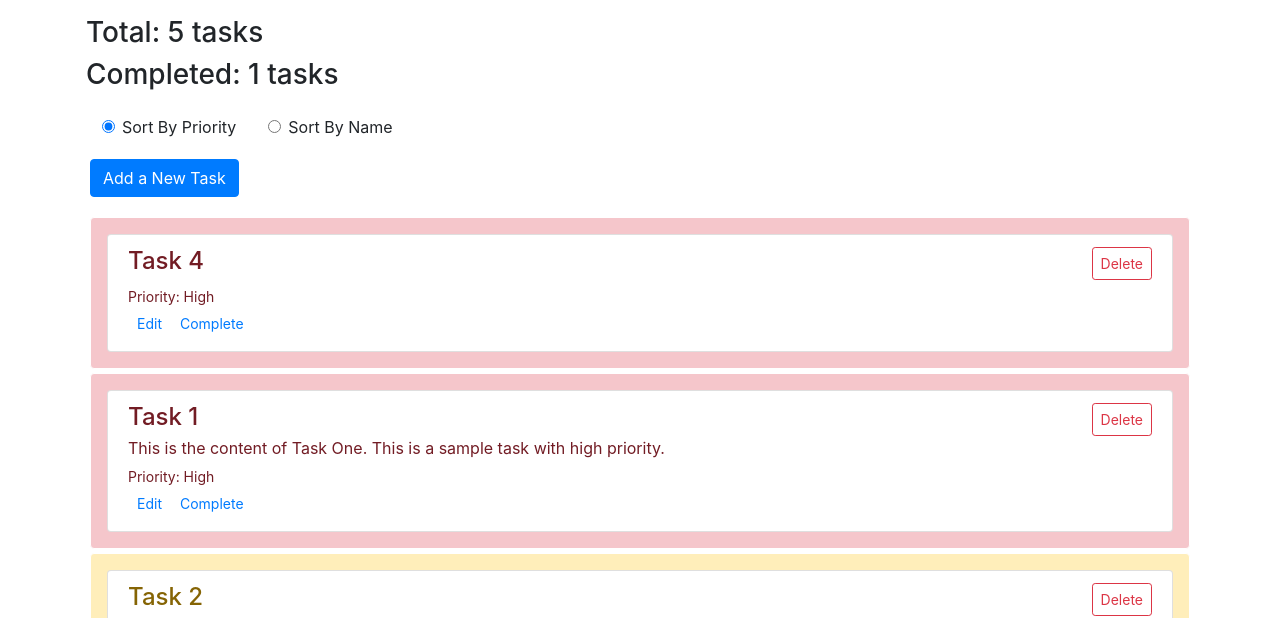
add new task button click
The image size is (1280, 618).
What coordinates should you click on to do the following:
click the button "Add a New Task"
I would click on:
 (164, 178)
Its box is [90,159,239,197].
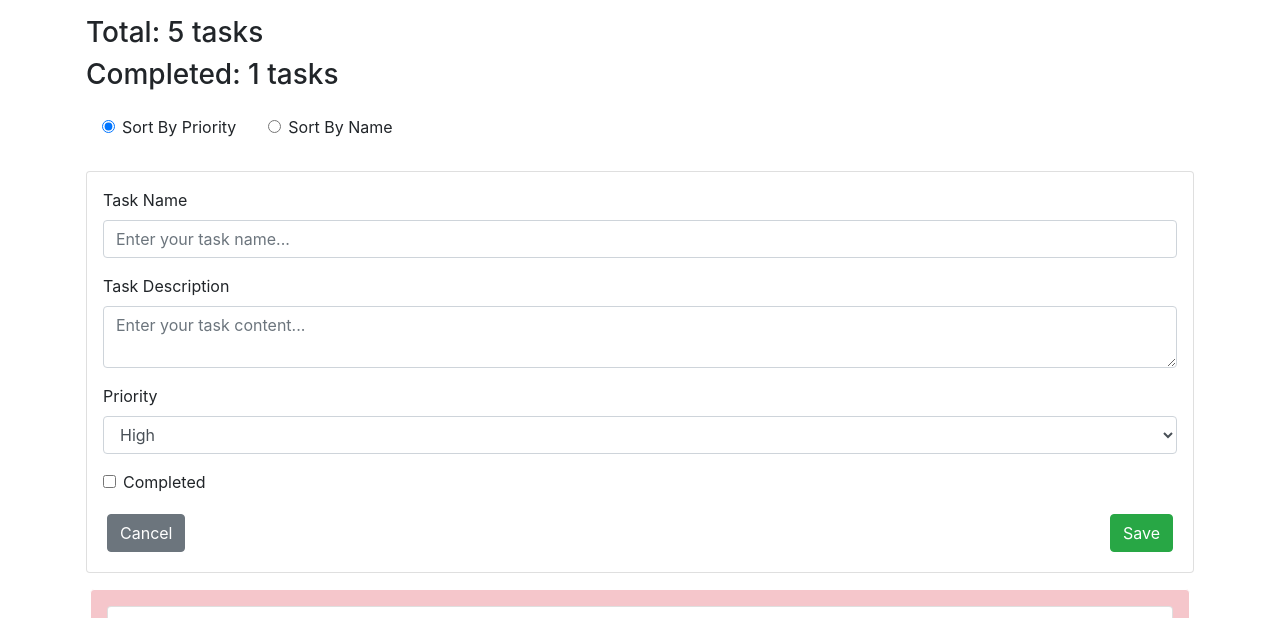
Now the button "Save" is shown, box [1110,514,1173,552]
